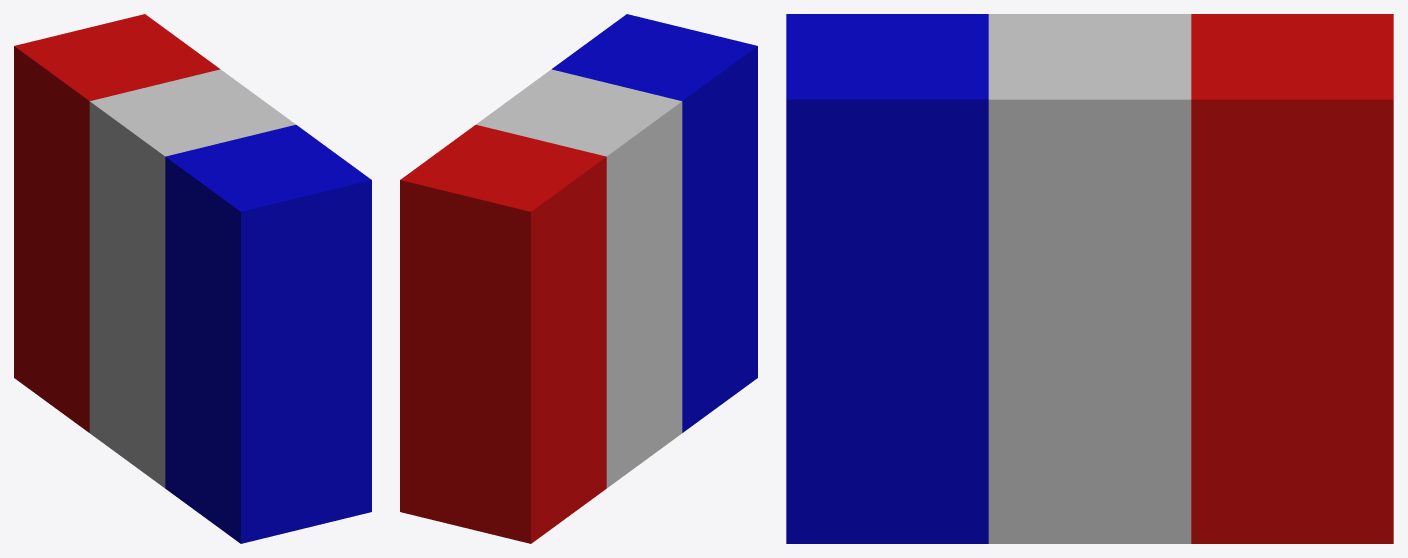
File: french.obj
3 views of the same model, side by side, from view 1: azimuth 30°, elevation 25°; view 2: azimuth 150°, elevation 25°; view 3: azimuth 270°, elevation 25° (orthographic). The views are drawn at different scales.
Visible parts, largest first — view 1: Cube.002, Cube, Cube.001; view 2: Cube.001, Cube, Cube.002; view 3: Cube, Cube.001, Cube.002.
Part boxes in pixels (x1,y1,x2,y2): Cube.002: (165, 125, 371, 543); Cube: (89, 69, 295, 488); Cube.001: (14, 14, 219, 432); Cube.001: (400, 125, 606, 543); Cube: (476, 69, 682, 488); Cube.002: (552, 14, 757, 432); Cube: (988, 14, 1191, 543); Cube.001: (1191, 14, 1393, 543); Cube.002: (786, 14, 988, 543).
Size of the model in its own units: 1 by 2.42 by 3.
